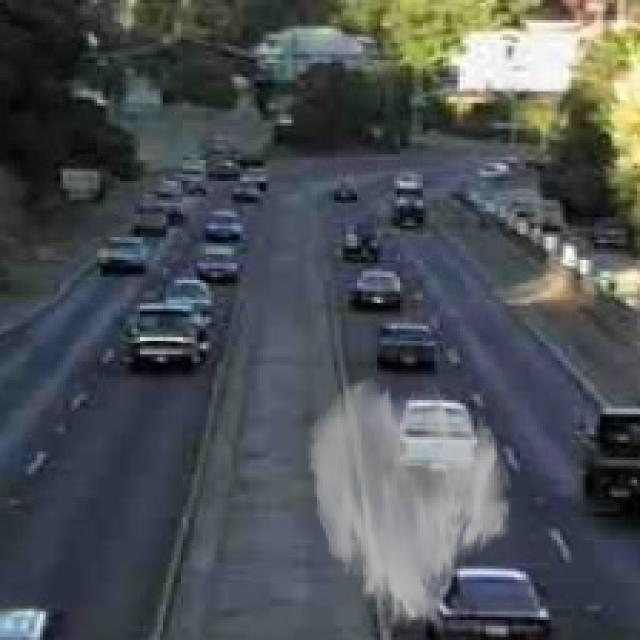Smoke: (306, 374, 518, 637)
